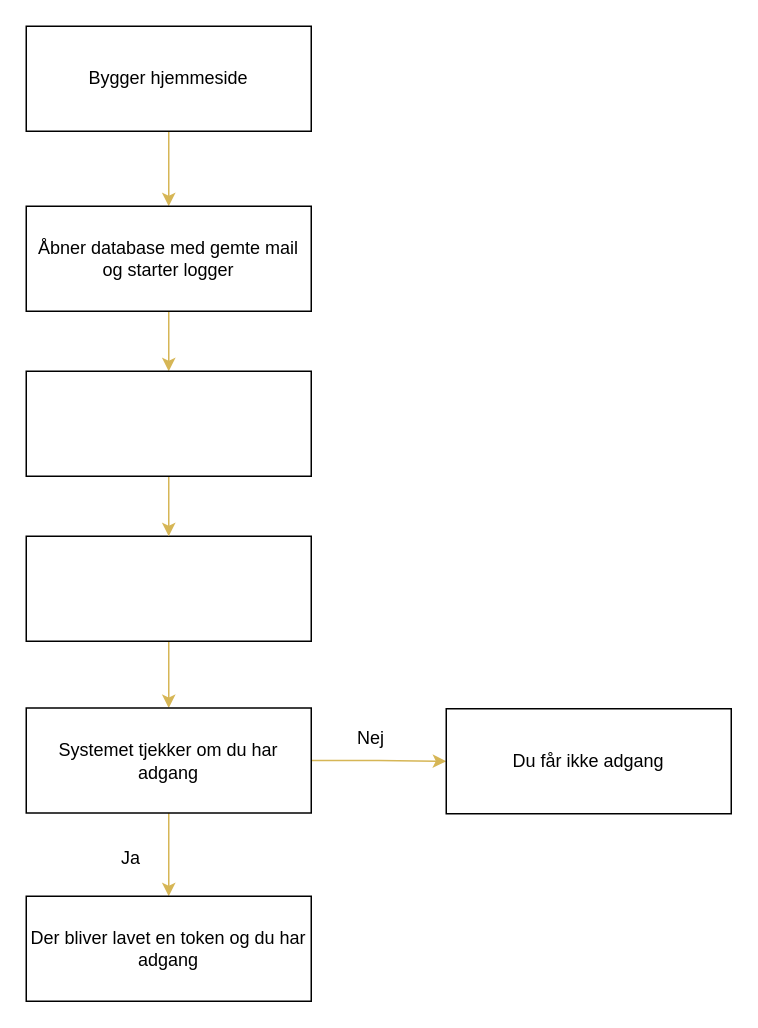
This 758x1028 diagram has some shape labels left out. The box of each missing label's shape, as (x1, y1, x2, y2) in pixels:
Man logger ind: (25, 535, 311, 641)
Systemet tjekker hvilke brugeren har adgang: (25, 370, 311, 476)
